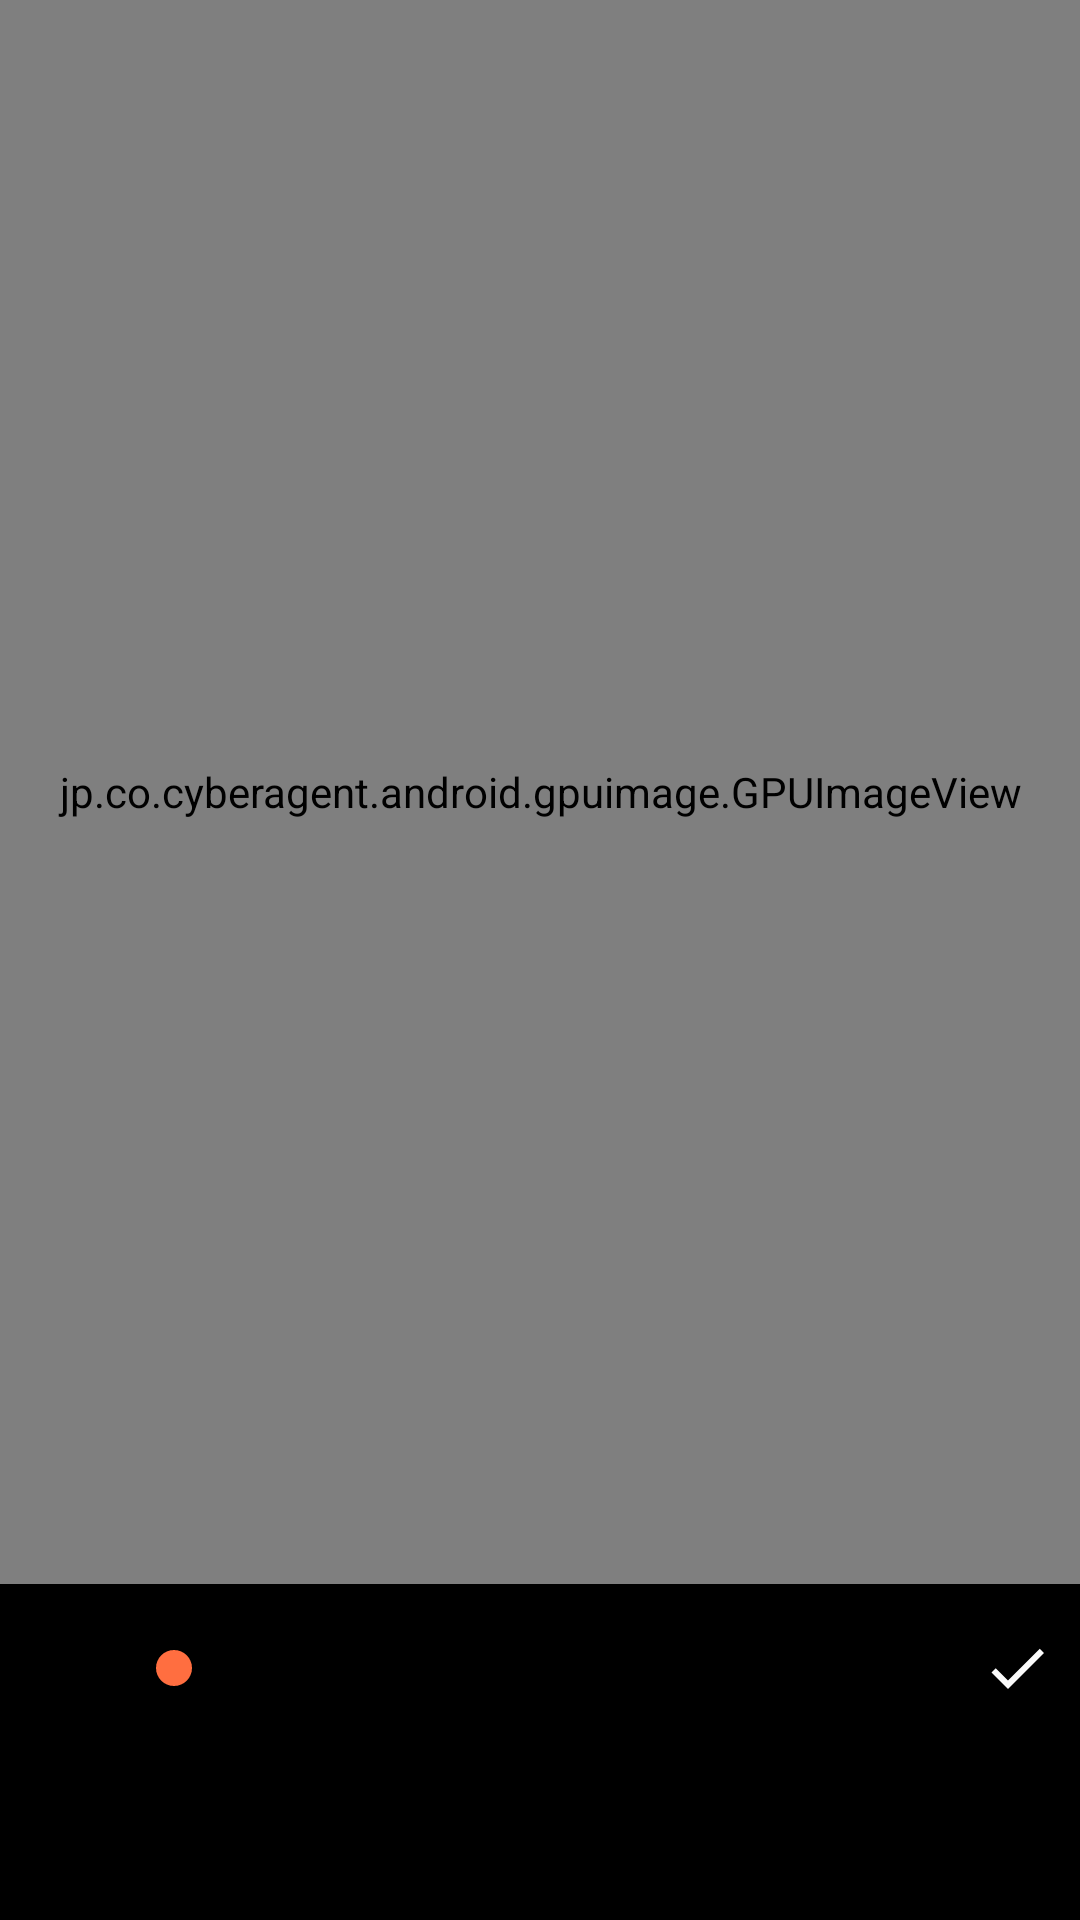

Icon bounding boxes for this 1080x1920 phone screenshot, format (x1, y1, x2, y2):
check: (991, 1649, 1044, 1689)
